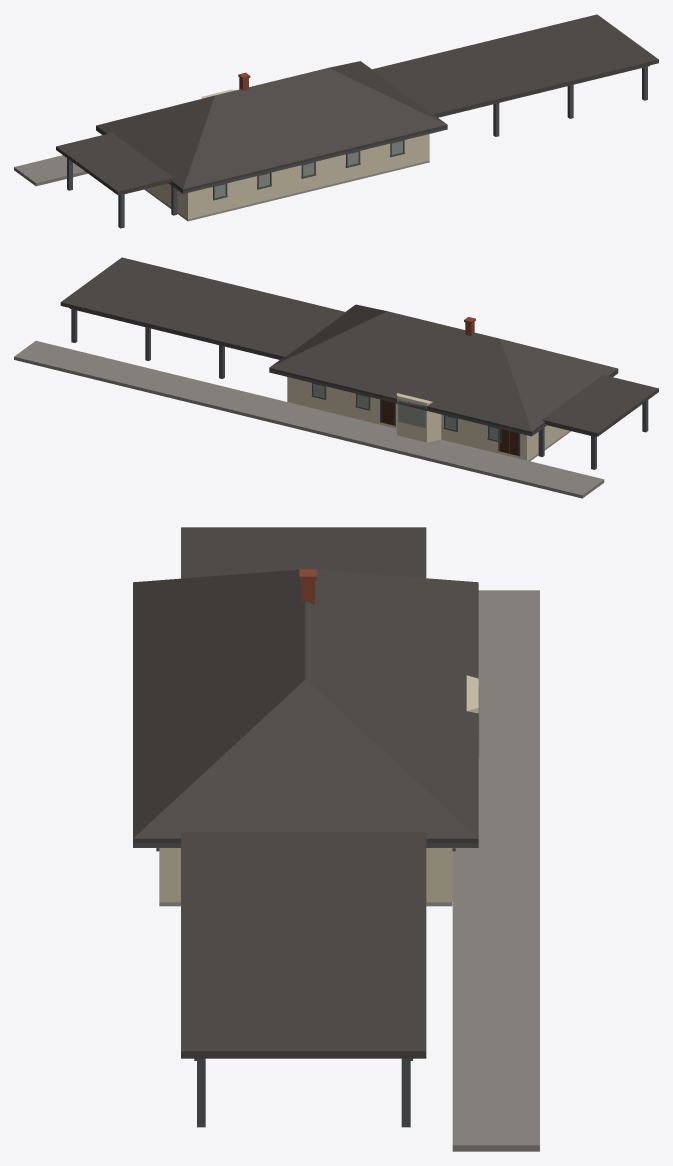
The model's file is Hartland_Depot.glb.
The picture shows the model from 3 angles, top to bottom: view 1: azimuth 30°, elevation 25°; view 2: azimuth 150°, elevation 25°; view 3: azimuth 270°, elevation 25°; orthographic projection. The views are drawn at different scales.
Parts seen in each view (by area): view 1: roof, stucco, trim, platform, foundation, glass, sash; view 2: roof, platform, stucco, trim, glass, doors, sash; view 3: roof, platform, stucco, trim.
Part boxes in pixels (box(x1,y1,x2,y2)): roof: box(56, 14, 658, 194); stucco: box(146, 89, 429, 219); trim: box(67, 65, 649, 228); platform: box(14, 155, 87, 186); foundation: box(144, 160, 429, 221); glass: box(215, 141, 402, 197); sash: box(213, 140, 404, 200); roof: box(60, 257, 658, 436); platform: box(14, 341, 604, 498); stucco: box(287, 377, 568, 460); trim: box(69, 308, 648, 469); glass: box(314, 384, 497, 439); doors: box(381, 400, 518, 455); sash: box(311, 383, 501, 442); roof: box(133, 527, 478, 1058); platform: box(452, 590, 539, 1151); stucco: box(159, 675, 478, 902); trim: box(133, 843, 478, 1127).
Size of the model in its own units: 1.58 by 0.2522 by 0.4888.
